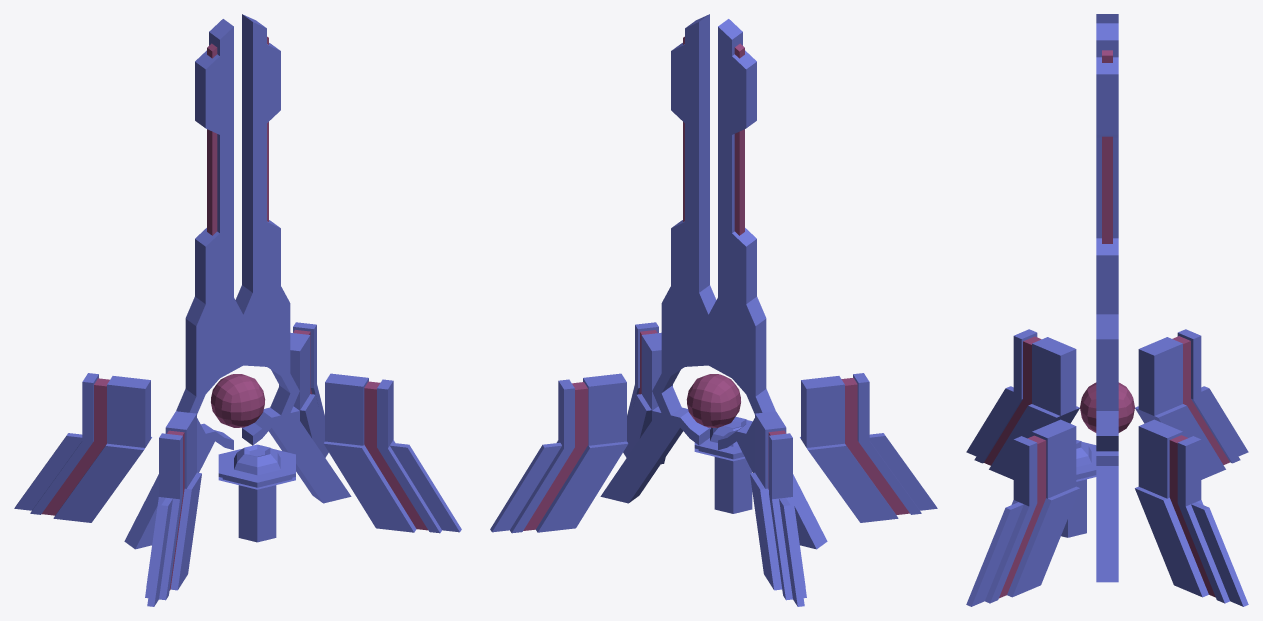
The model's file is SM_middleTower.FBX.
3 renders of one model, left to right at view 1: azimuth 30°, elevation 25°; view 2: azimuth 150°, elevation 25°; view 3: azimuth 270°, elevation 25°, orthographic. The views are drawn at different scales.
Visible parts, largest first — view 1: Box002; view 2: Box002; view 3: Box002.
Part boxes in pixels (left/top/right/bottom): Box002: left=14, top=14, right=461, bottom=606; Box002: left=490, top=14, right=937, bottom=606; Box002: left=966, top=14, right=1248, bottom=606.
Size of the model in its own units: 669 by 1013 by 509.
